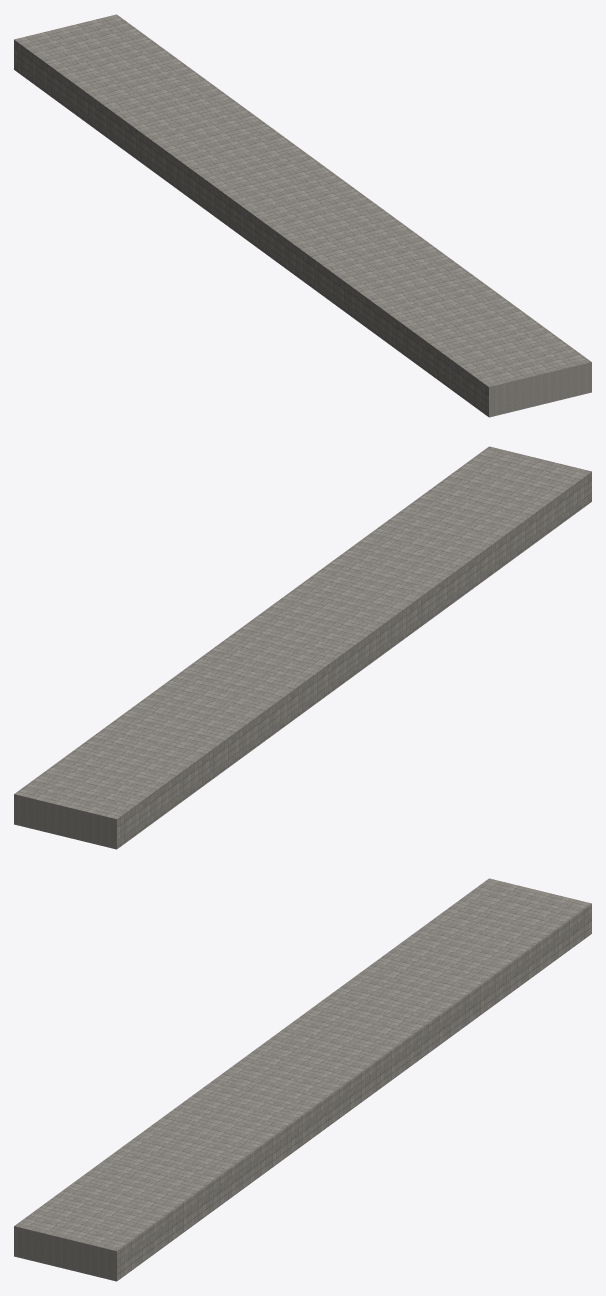
File: pavement1.fbx
The picture shows the model from 3 angles, top to bottom: view 1: azimuth 30°, elevation 25°; view 2: azimuth 150°, elevation 25°; view 3: azimuth 330°, elevation 25°; orthographic projection.
Parts seen in each view (by area): view 1: materialA100; view 2: materialA100; view 3: materialA100.
Boxes of the visible parts, left/top/right/bottom form: materialA100: left=14, top=14, right=591, bottom=417; materialA100: left=14, top=446, right=591, bottom=849; materialA100: left=14, top=878, right=591, bottom=1281.
Size of the model in its own units: 6.4 by 1.8 by 51.2.
